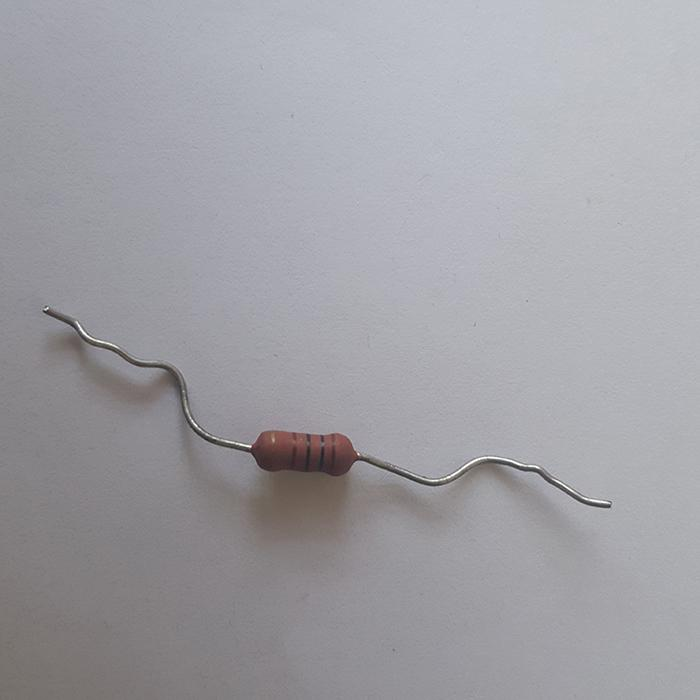resistor: (249, 429, 357, 475)
